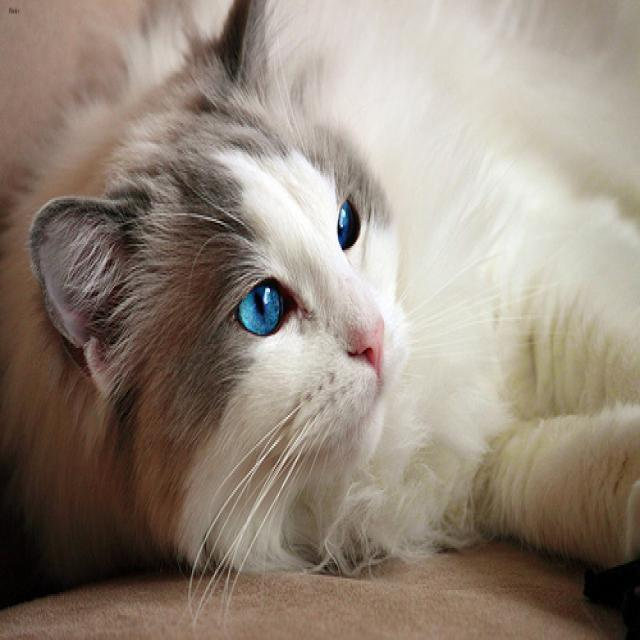Ragdoll: (30, 0, 411, 489)
